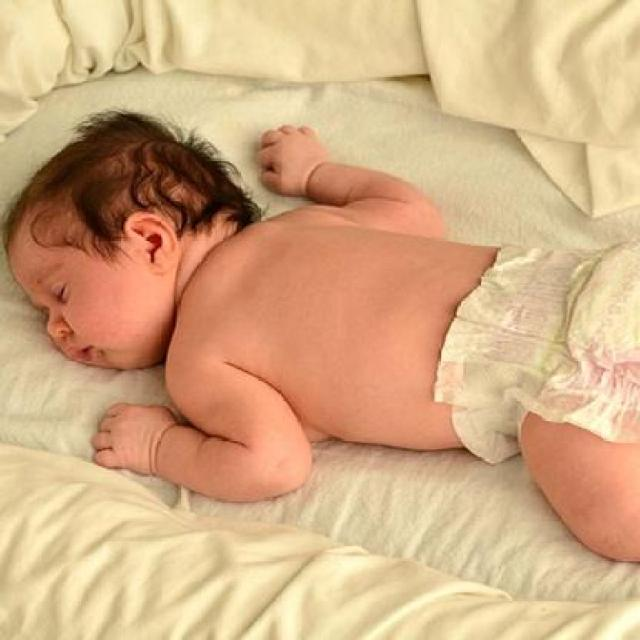baby: (6, 107, 639, 558)
